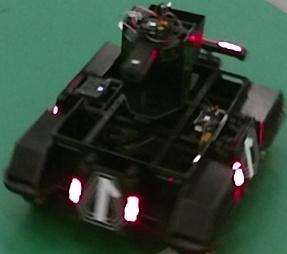armor_1: (70, 177, 139, 219)
front_1: (80, 171, 128, 232)
left_1: (240, 127, 259, 180)
